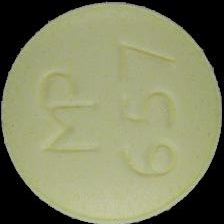68788-9214: (0, 0, 224, 224)
